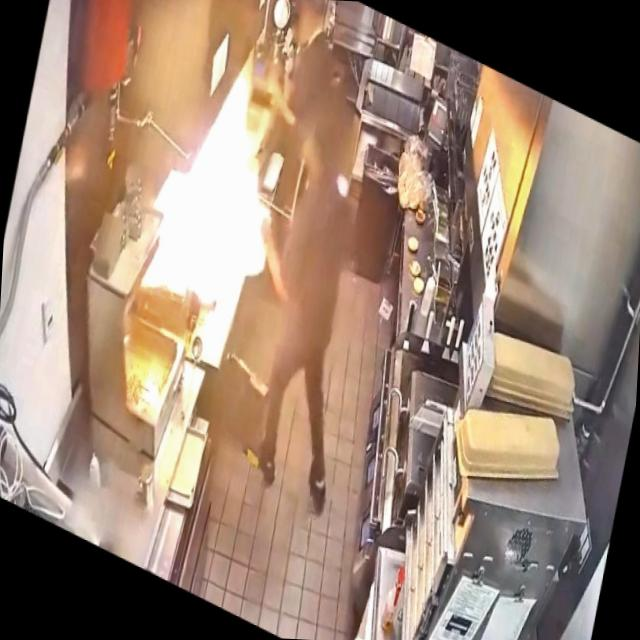fire: (115, 11, 316, 386)
